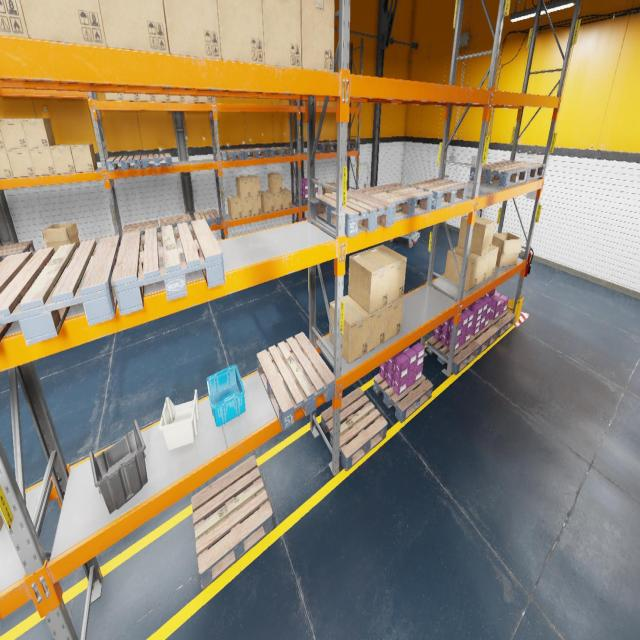box: (20, 0, 107, 47), (98, 0, 169, 53), (163, 0, 221, 59), (217, 0, 265, 64), (330, 294, 370, 364), (348, 250, 390, 314), (262, 0, 301, 68), (301, 0, 334, 72), (368, 244, 407, 304), (349, 295, 387, 352), (444, 246, 481, 291), (458, 215, 495, 256), (458, 247, 490, 285), (0, 0, 29, 38), (42, 223, 80, 252), (491, 232, 522, 267), (21, 118, 55, 147), (6, 148, 35, 177), (0, 118, 28, 148), (385, 296, 403, 342), (70, 144, 98, 172), (28, 147, 56, 175), (50, 144, 76, 174), (486, 244, 498, 280), (0, 149, 14, 178), (237, 195, 252, 217), (227, 196, 242, 218), (236, 176, 250, 199), (246, 175, 260, 197), (260, 191, 274, 212), (268, 173, 282, 193), (269, 191, 283, 210), (251, 196, 262, 215), (282, 188, 292, 208), (322, 182, 336, 195), (105, 92, 124, 101), (122, 93, 140, 101), (155, 94, 170, 102), (139, 94, 155, 101), (0, 128, 5, 148), (170, 95, 184, 102), (198, 96, 211, 103), (184, 96, 198, 102), (0, 514, 3, 531)
pallets: (0, 235, 120, 345), (191, 455, 273, 589), (112, 220, 225, 316), (257, 332, 335, 430), (322, 387, 388, 471), (315, 189, 394, 237), (373, 373, 433, 422), (357, 183, 433, 221), (426, 336, 479, 375), (407, 178, 468, 209), (469, 163, 528, 187), (493, 160, 545, 181), (470, 323, 499, 355), (488, 310, 516, 338), (0, 240, 35, 260), (106, 156, 142, 172), (122, 220, 160, 235), (159, 214, 192, 231), (193, 210, 221, 227), (141, 154, 172, 168), (239, 147, 269, 159), (220, 149, 245, 161), (266, 146, 293, 157), (331, 141, 357, 149), (316, 142, 337, 151), (296, 195, 308, 206), (404, 230, 418, 237)
